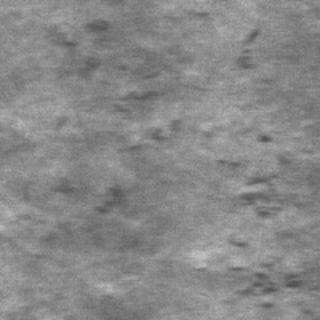rolled pit: (213, 132, 309, 318), (93, 78, 171, 222)
